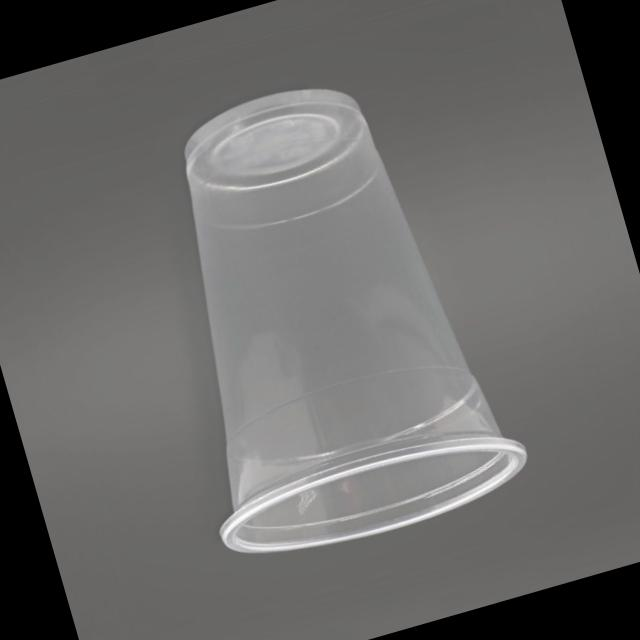GelasPlastik: (106, 52, 538, 576)
